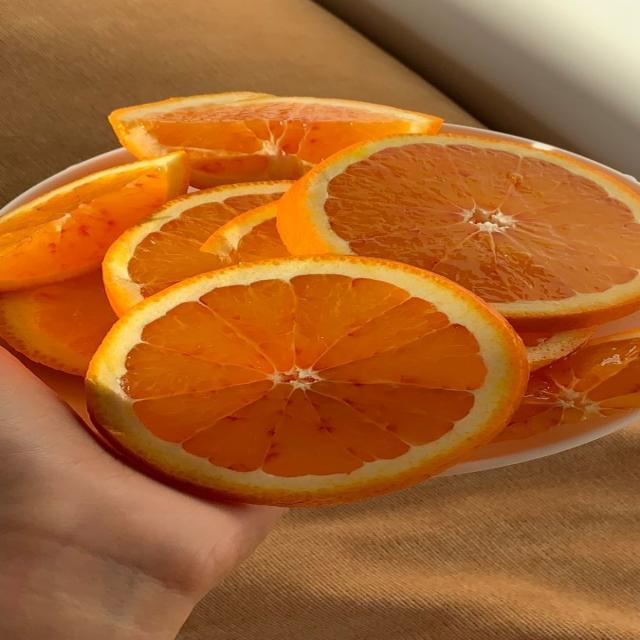orange: (88, 256, 528, 506), (278, 135, 639, 331), (110, 93, 441, 188), (0, 152, 187, 291), (103, 181, 292, 314), (497, 330, 639, 440), (0, 271, 116, 375), (202, 202, 290, 265), (202, 202, 290, 263), (520, 328, 595, 371)
